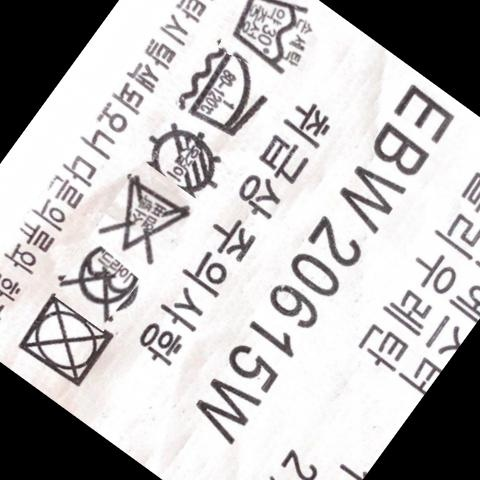DN_dry_clean: (69, 245, 142, 309)
DN_tumble_dry: (22, 297, 109, 385)
hand_wash: (236, 1, 313, 72)
iron_low: (194, 48, 262, 138)
line_dry_in_shade: (142, 122, 222, 192)
non_chlorine_bleach: (110, 183, 183, 259)
